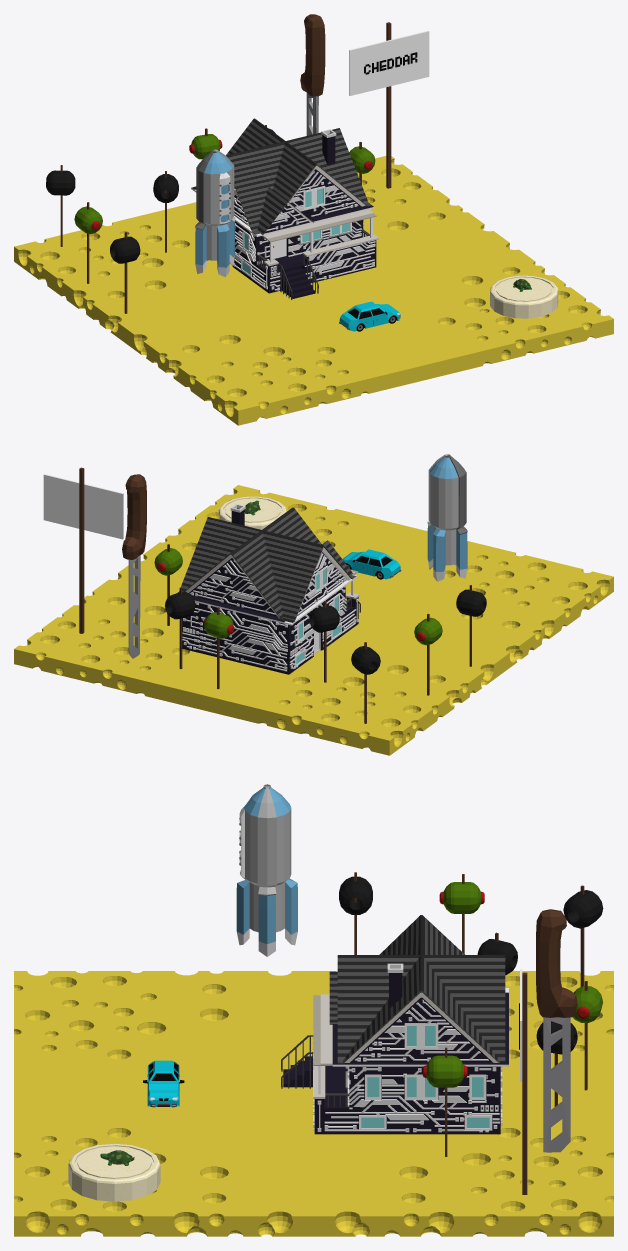
The picture shows the model from 3 angles, top to bottom: view 1: azimuth 30°, elevation 25°; view 2: azimuth 150°, elevation 25°; view 3: azimuth 270°, elevation 25°; orthographic projection. The views are drawn at different scales.
Visible parts, largest first — view 1: Cube.022, Cube.918, Cube.023, OBJRANDOM_ROCKETSHIP, Cylinder.016, Cube.024, VEHICLES_CAR, Sphere.017, Sphere.016, Sphere.018, Sphere.020, Sphere.022 (+1 smaller); view 2: Cube.022, Cube.918, Cube.023, OBJRANDOM_ROCKETSHIP, Cube.024, Cylinder.016, VEHICLES_CAR, Sphere.021, Sphere.017, Sphere.020, Sphere.016, Sphere.022 (+2 smaller); view 3: Cube.022, Cube.918, OBJRANDOM_ROCKETSHIP, Cube.024, Cylinder.016, Cube.023, VEHICLES_CAR, Sphere.016, Sphere.019, Sphere.018, Sphere.017, Sphere.022 (+2 smaller).
Part boxes in pixels (x1,y1,x2,y2): Cube.022: [14, 156, 613, 425]; Cube.918: [191, 118, 378, 299]; Cube.023: [349, 22, 429, 188]; OBJRANDOM_ROCKETSHIP: [195, 149, 235, 277]; Cylinder.016: [490, 275, 558, 318]; Cube.024: [300, 14, 325, 135]; VEHICLES_CAR: [339, 301, 400, 331]; Sphere.017: [110, 232, 140, 313]; Sphere.016: [46, 165, 75, 246]; Sphere.018: [74, 202, 102, 283]; Sphere.020: [153, 171, 178, 252]; Sphere.022: [189, 128, 222, 159]; Cube.022: [14, 485, 613, 755]; Cube.918: [178, 504, 360, 674]; Cube.023: [43, 467, 123, 633]; OBJRANDOM_ROCKETSHIP: [427, 454, 467, 581]; Cube.024: [122, 474, 146, 658]; Cylinder.016: [218, 496, 286, 529]; VEHICLES_CAR: [342, 549, 401, 579]; Sphere.021: [165, 587, 195, 668]; Sphere.017: [456, 585, 486, 666]; Sphere.020: [309, 601, 339, 682]; Sphere.016: [351, 642, 380, 723]; Sphere.022: [203, 607, 234, 689]; Cube.022: [14, 971, 613, 1236]; Cube.918: [281, 915, 508, 1134]; OBJRANDOM_ROCKETSHIP: [236, 784, 297, 956]; Cube.024: [536, 909, 577, 1152]; Cylinder.016: [68, 1143, 160, 1201]; Cube.023: [519, 969, 527, 1194]; VEHICLES_CAR: [143, 1060, 184, 1107]; Sphere.016: [563, 885, 603, 986]; Sphere.019: [422, 1047, 467, 1156]; Sphere.018: [439, 874, 484, 953]; Sphere.017: [339, 872, 372, 954]; Sphere.022: [573, 981, 602, 1090].
Bounding box in the file's own units: 3917 × 2010 × 4000.
43 materials, 3 textured.
